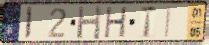2: (47, 7, 68, 39)
H: (76, 4, 103, 41), (103, 5, 129, 40)
I: (23, 6, 34, 41), (163, 5, 173, 39)
T: (139, 5, 159, 40)
